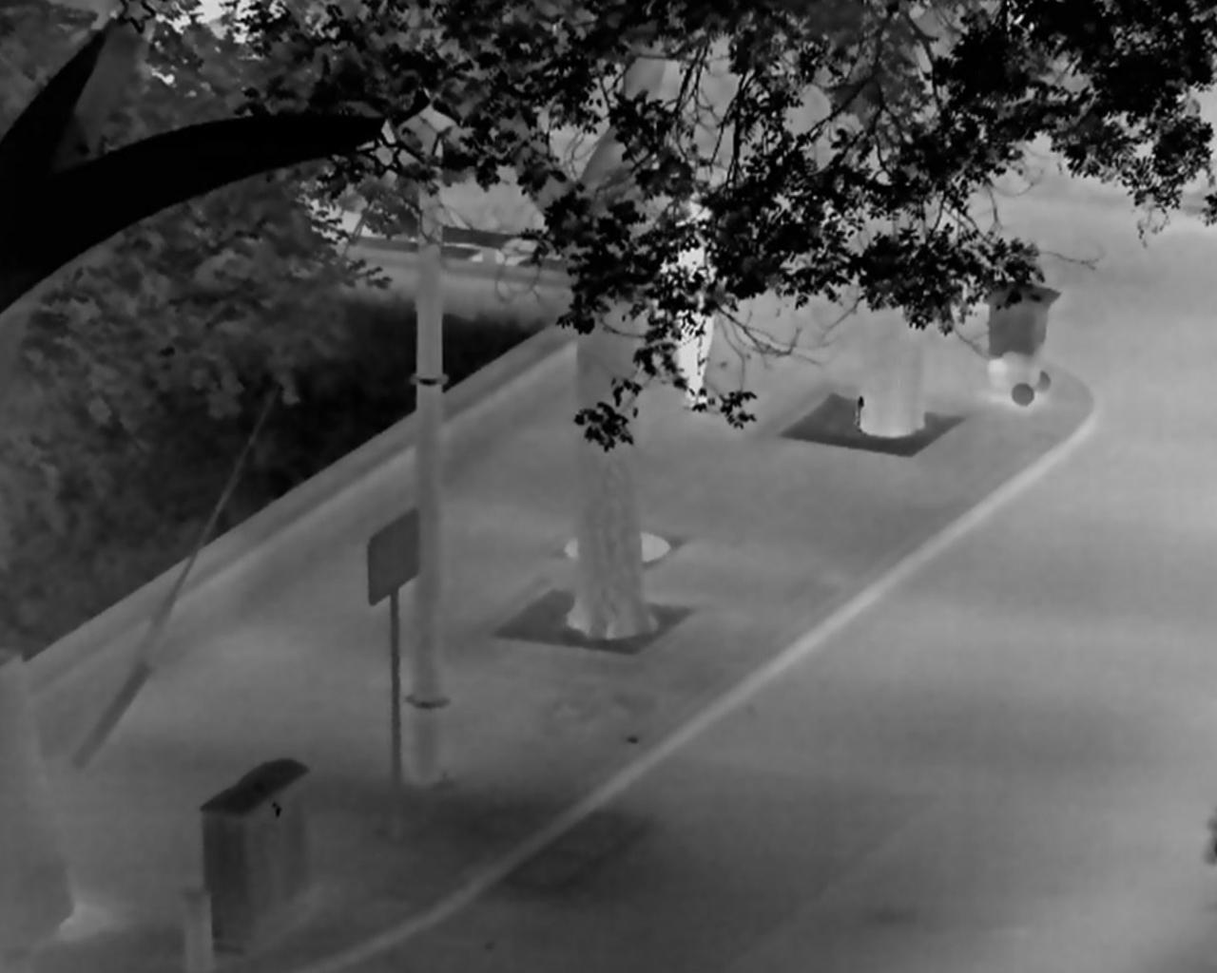person: (656, 190, 720, 407)
